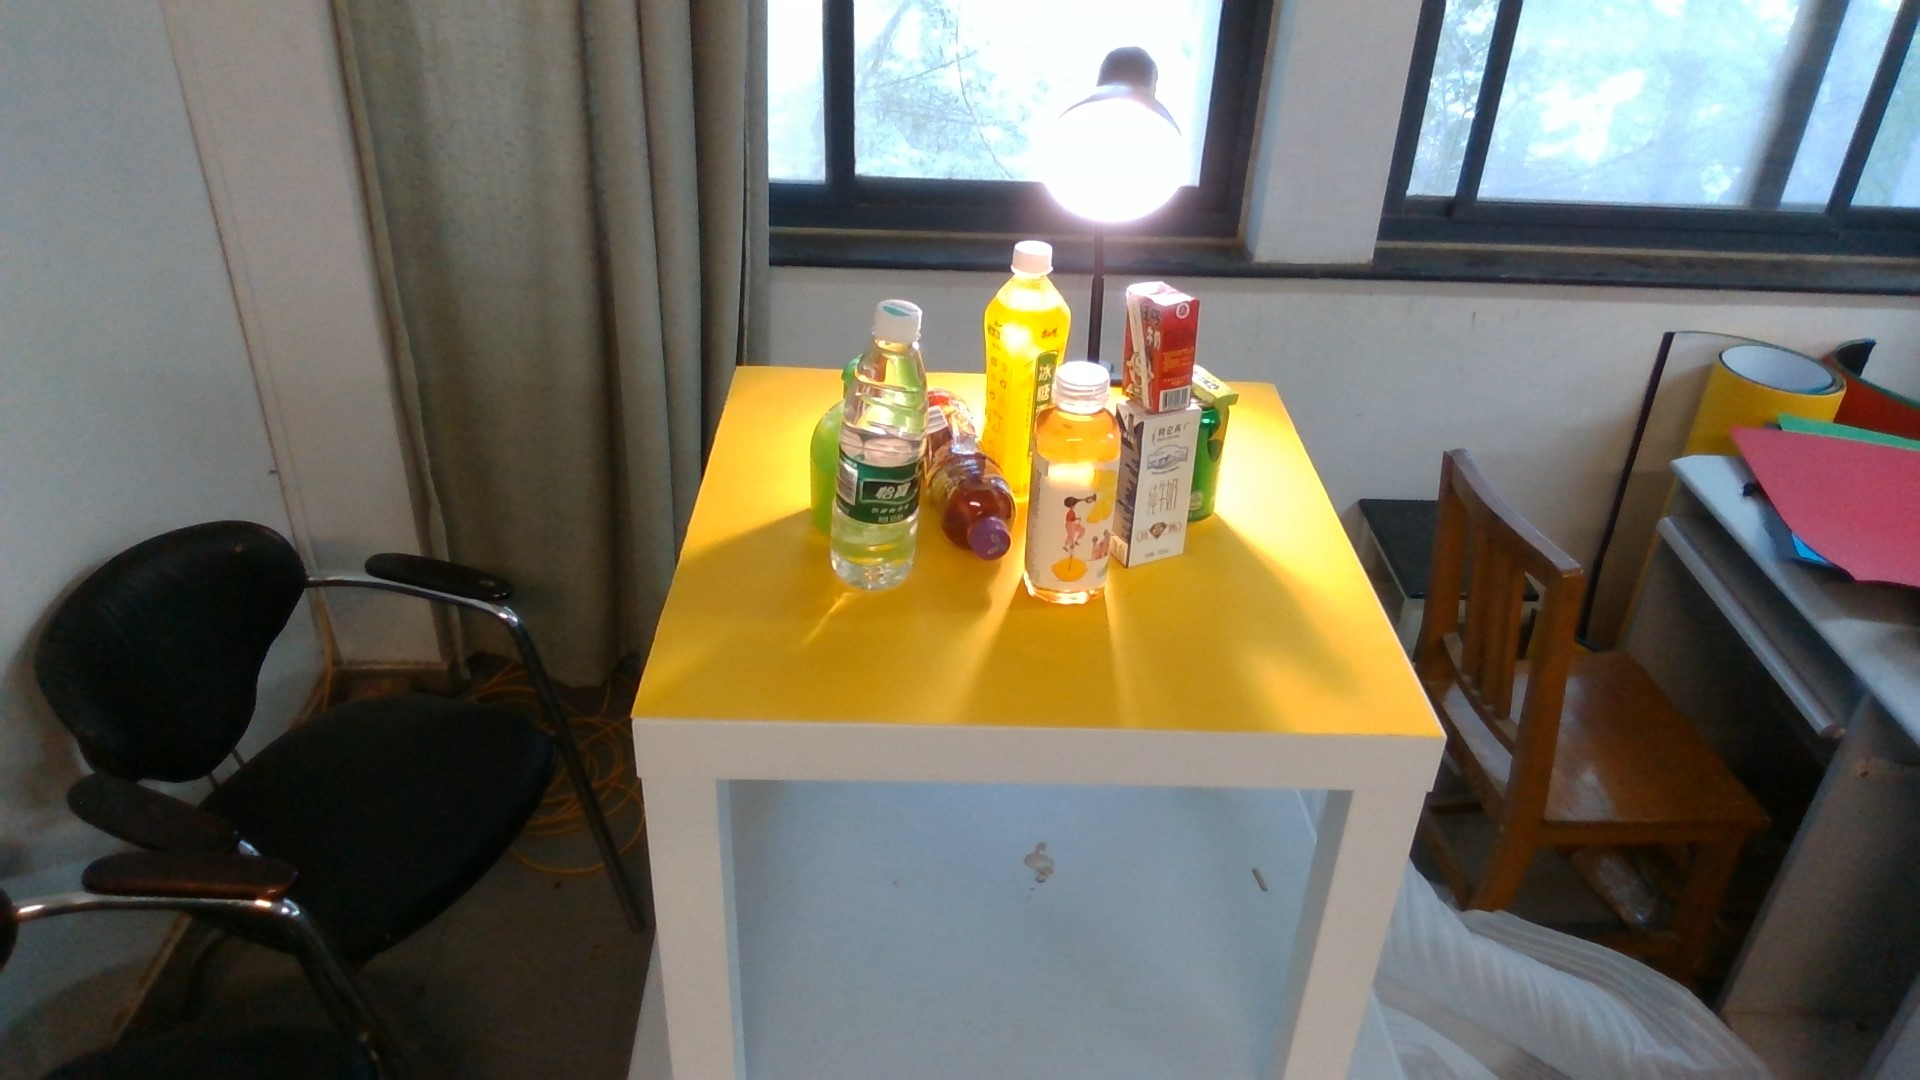BB002: (1195, 360, 1236, 405)
BB010: (1116, 407, 1189, 567)
BB012: (1126, 273, 1193, 410)
ZA002: (808, 394, 836, 527)
ZC001: (1197, 407, 1226, 520)
ZC009: (926, 384, 1015, 563)
ZC011: (982, 239, 1036, 459)
ZC012: (1027, 363, 1112, 603)
ZC017: (837, 298, 924, 593)
